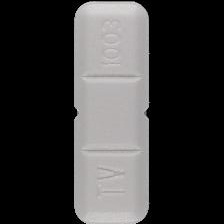63629-1747: (0, 0, 224, 224)
